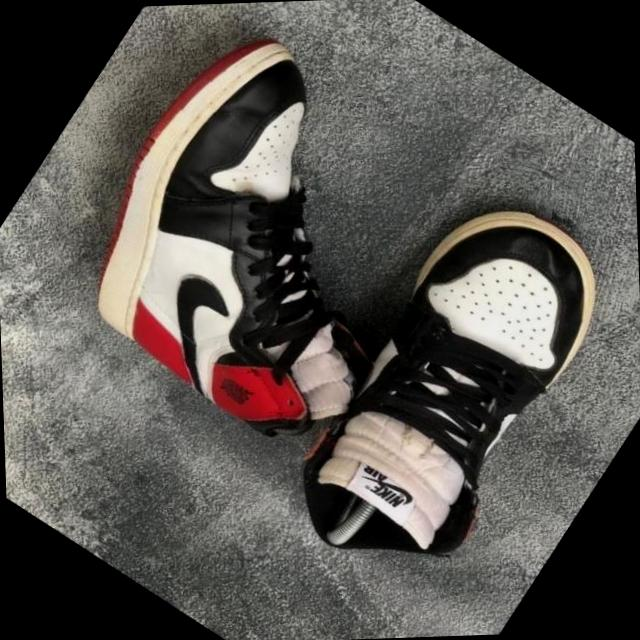nike_fake_jordan: (30, 0, 507, 479), (224, 149, 640, 615)
